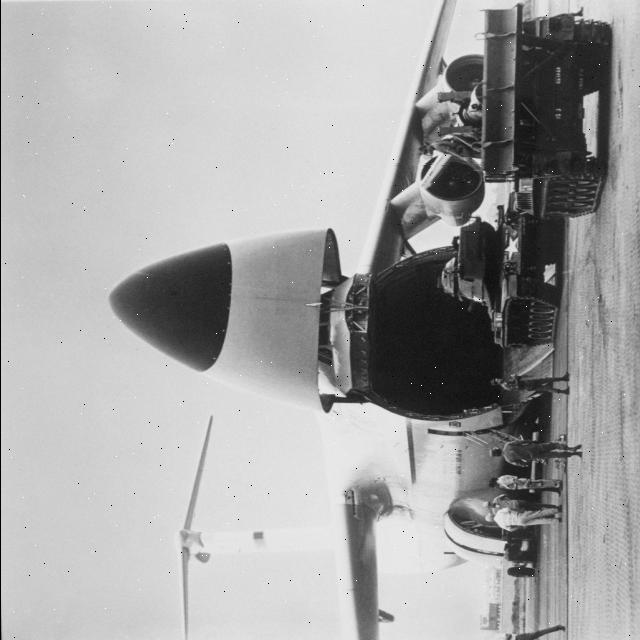C5: (97, 0, 576, 628)
